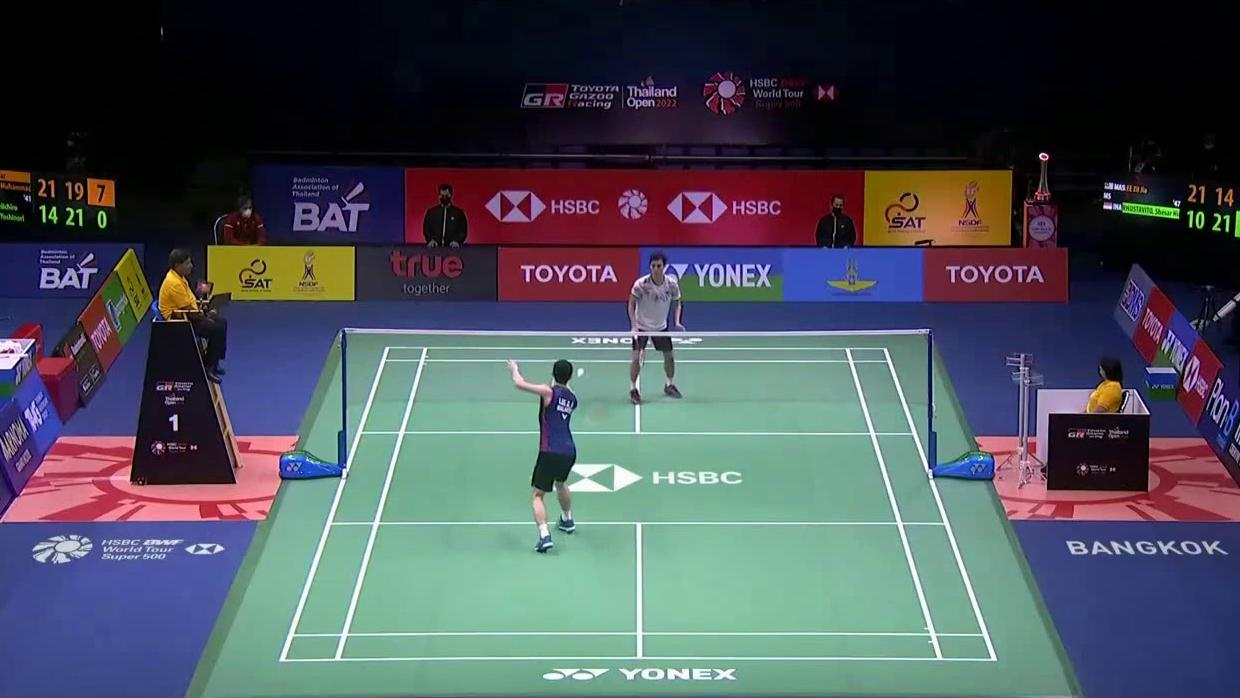racket: (567, 385, 623, 421), (632, 331, 647, 368)
shuttle: (576, 367, 585, 377)
